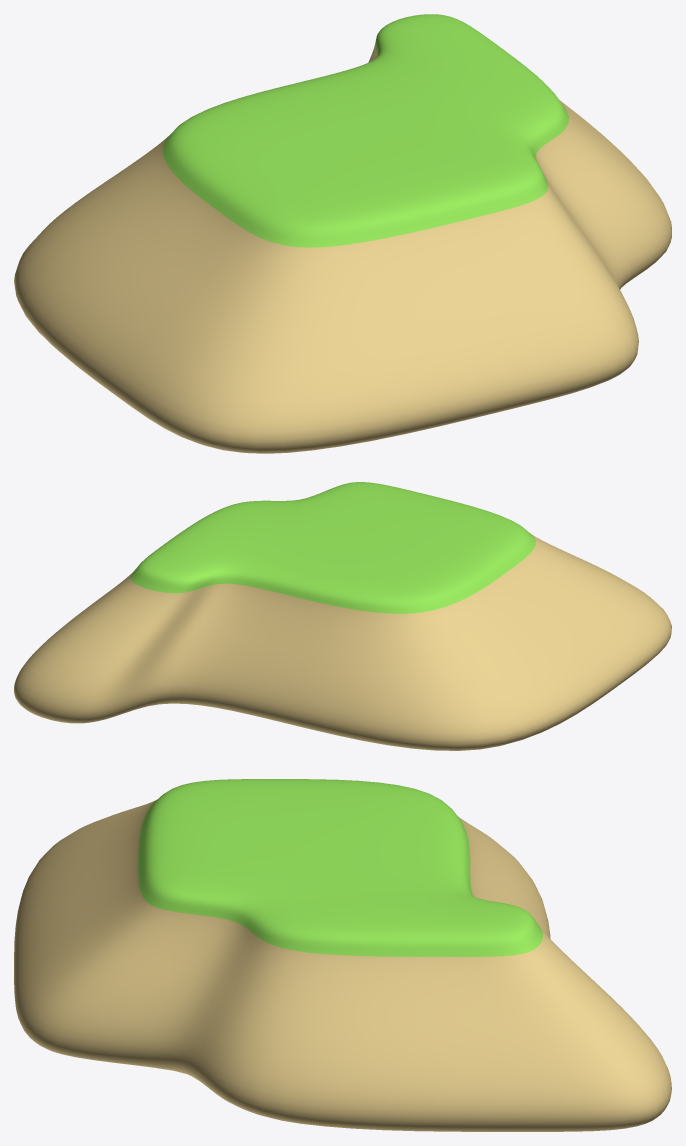
Rendered from Ant Island.fbx.
3 views of the same model, one above another, from view 1: azimuth 30°, elevation 25°; view 2: azimuth 150°, elevation 25°; view 3: azimuth 270°, elevation 25° (orthographic). The views are drawn at different scales.
Parts seen in each view (by area): view 1: Ant Island; view 2: Ant Island; view 3: Ant Island.
Boxes of the visible parts, bbox=[...] form: Ant Island: bbox=[14, 14, 671, 453]; Ant Island: bbox=[14, 482, 671, 750]; Ant Island: bbox=[14, 779, 671, 1131].
Size of the model in its own units: 36792 by 37037 by 10292.
